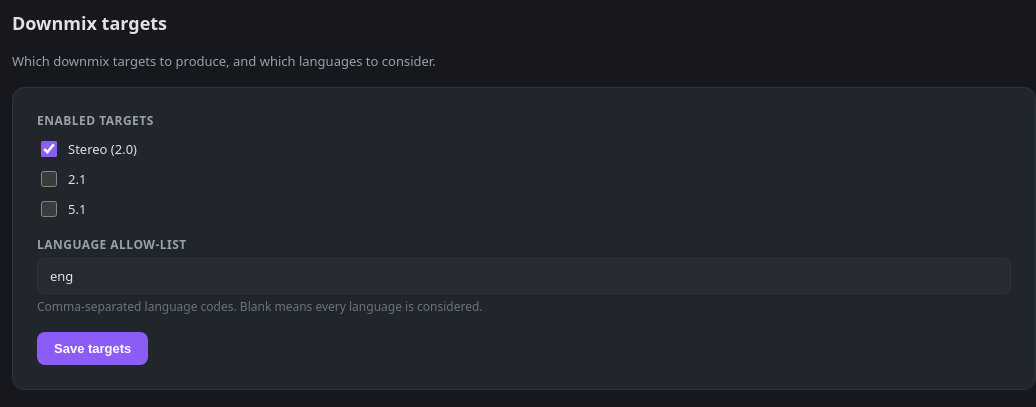
TargetsSection › parses the language allow-list field into an array, dropping blanks
This screenshot has width=1036, height=407.
Replace the text in the field labelled "Language allow-list" with "eng, fre ,  , spa" at {"x": 524, "y": 276}, box [37,258,1011,294]
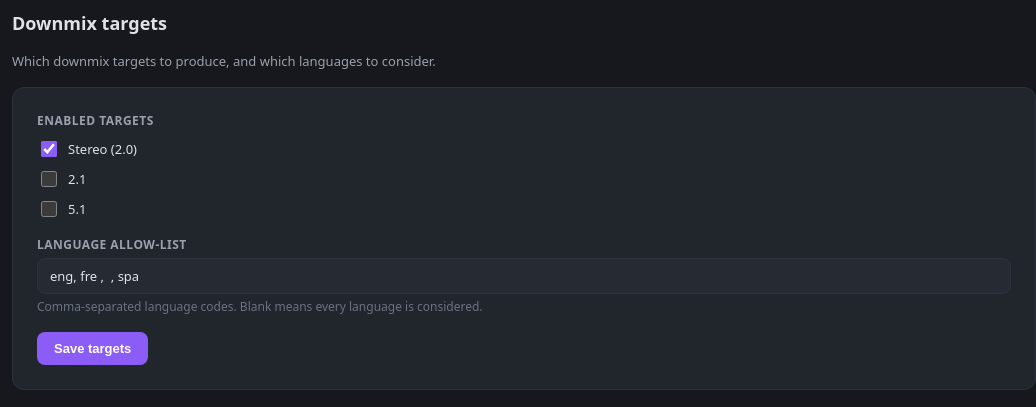
Click the button "Save targets" at {"x": 93, "y": 349}, box [37,332,148,365]
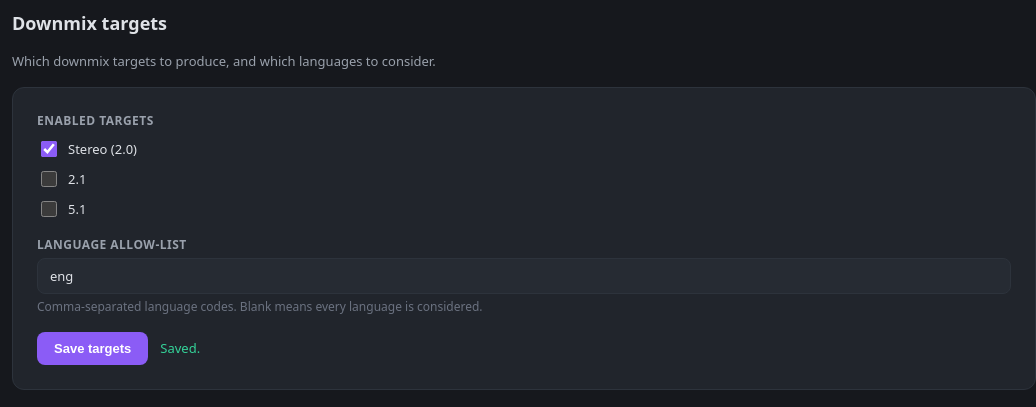
Now the text "Saved." is shown, box [160,339,200,359]
